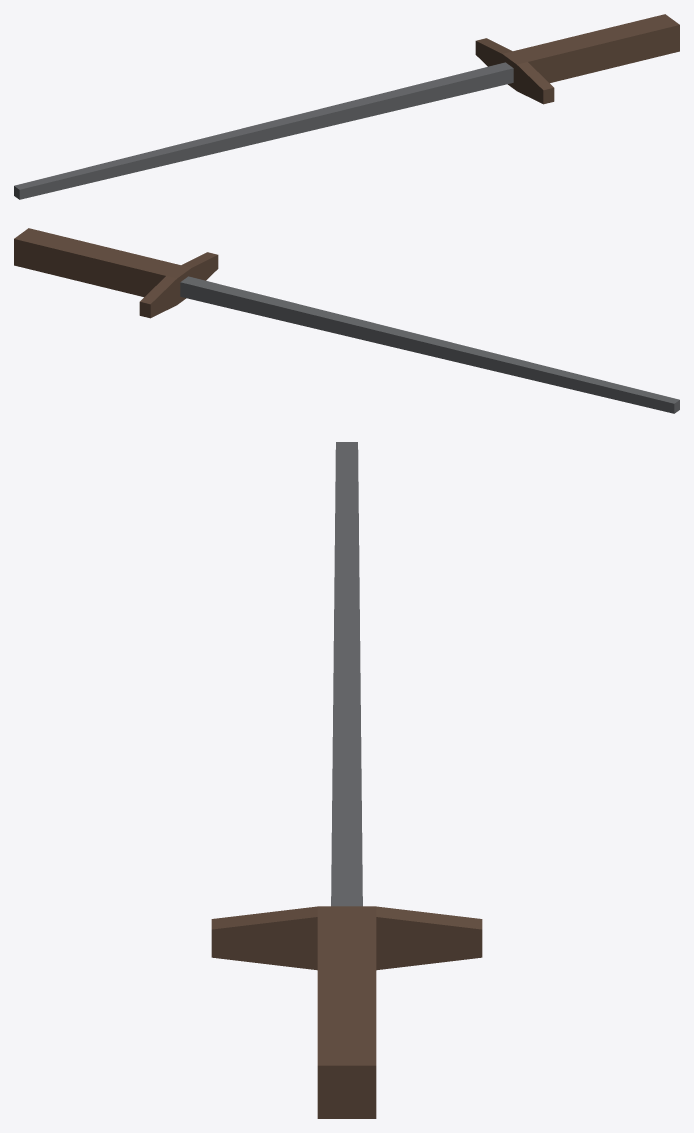
Rendered from honingSteel.fbx.
The picture shows the model from 3 angles, top to bottom: view 1: azimuth 30°, elevation 25°; view 2: azimuth 150°, elevation 25°; view 3: azimuth 270°, elevation 25°; orthographic projection. The views are drawn at different scales.
Visible parts, largest first — view 1: honingSteel; view 2: honingSteel; view 3: honingSteel.
Boxes of the visible parts, <box> form: honingSteel: <box>14,14,679,199</box>; honingSteel: <box>14,228,679,413</box>; honingSteel: <box>211,442,482,1118</box>.
Size of the model in its own units: 81.3 by 3.16 by 14.55.
Materials: 1 (1 with a texture image).
